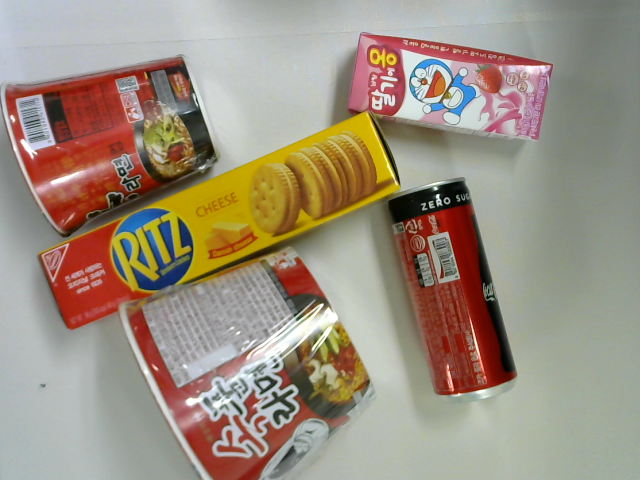Coca_Cola_Zero_Can_250ml: (388, 173, 519, 405)
Hejangpul: (120, 248, 379, 480)
Ritz_Sand_Cracker: (36, 108, 402, 331)
Sinramen_small: (2, 51, 221, 240)
Strawberry_E_Mong: (342, 31, 554, 143)
